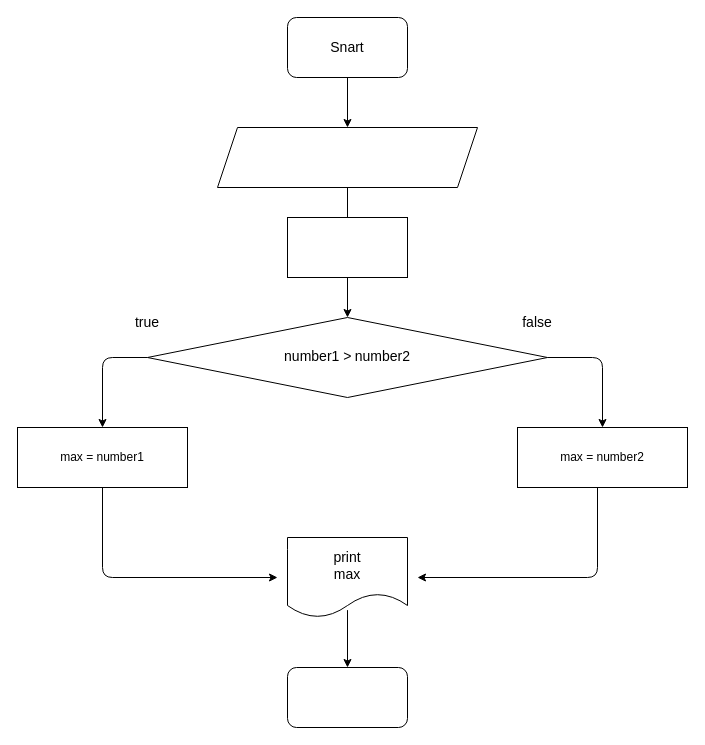
Some shapes in this 705 by 745 pixel diagram are drawn without their labels. The shapes that lost their labels are listed below. From the top down, each one's centre as x and y in pixels, then its label:
(347,157): Вводим number1 = [a] number2 = [b]
(347,247): max = 0
(347,697): End
